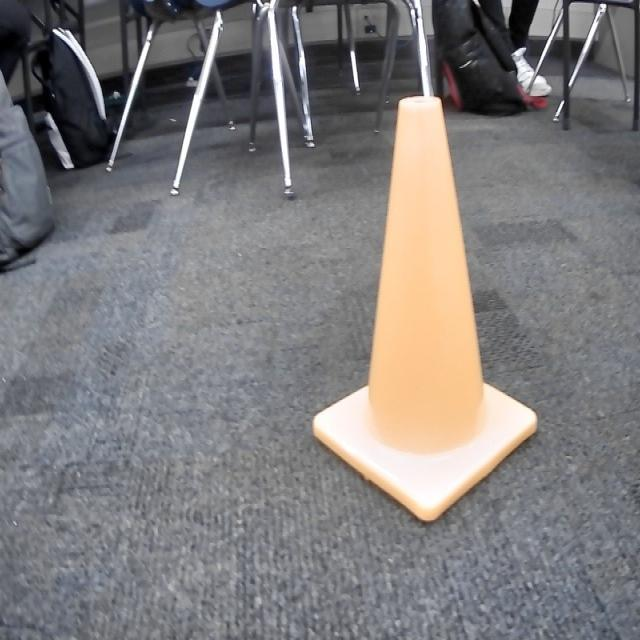cone: (313, 93, 542, 527)
